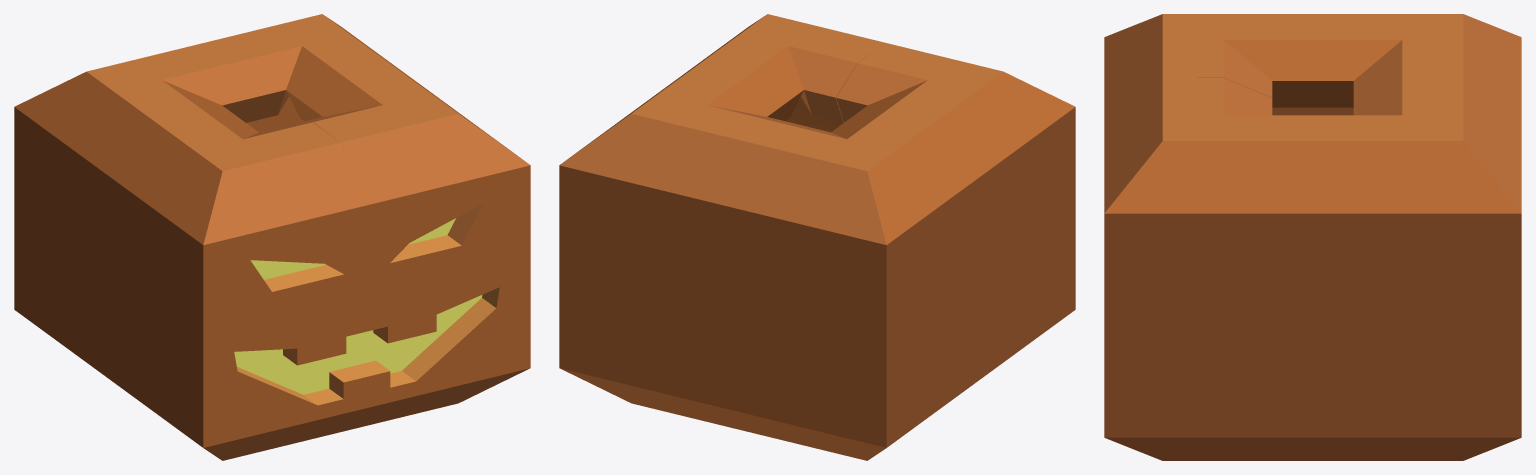
The model's file is Pumkin_Parts.glb.
3 views of the same model, side by side, from view 1: azimuth 30°, elevation 25°; view 2: azimuth 150°, elevation 25°; view 3: azimuth 270°, elevation 25° (orthographic). The views are drawn at different scales.
Parts seen in each view (by area): view 1: Pumpkin_Part_8, Pumpkin_Part_7, Pumpkin_Part_5, Pumpkin_Part_6, Pumpkin_Part_3, Pumpkin_Part_4, Pumpkin_Part_2, Pumpkin_Part_1; view 2: Pumpkin_Part_4, Pumpkin_Part_3, Pumpkin_Part_5, Pumpkin_Part_6, Pumpkin_Part_8, Pumpkin_Part_7, Pumpkin_Part_2, Pumpkin_Part_1; view 3: Pumpkin_Part_2, Pumpkin_Part_1, Pumpkin_Part_4, Pumpkin_Part_8, Pumpkin_Part_7, Pumpkin_Part_3, Pumpkin_Part_5, Pumpkin_Part_6.
Part boxes in pixels (<box>): Pumpkin_Part_8: <box>292,105,530,431</box>; Pumpkin_Part_7: <box>203,122,366,460</box>; Pumpkin_Part_5: <box>14,71,241,379</box>; Pumpkin_Part_6: <box>110,111,258,447</box>; Pumpkin_Part_3: <box>205,14,321,132</box>; Pumpkin_Part_4: <box>87,42,254,122</box>; Pumpkin_Part_2: <box>286,14,432,120</box>; Pumpkin_Part_1: <box>306,64,519,157</box>; Pumpkin_Part_4: <box>722,122,886,460</box>; Pumpkin_Part_3: <box>559,105,796,431</box>; Pumpkin_Part_5: <box>831,108,982,447</box>; Pumpkin_Part_6: <box>851,71,1075,377</box>; Pumpkin_Part_8: <box>768,14,885,132</box>; Pumpkin_Part_7: <box>836,43,1002,122</box>; Pumpkin_Part_2: <box>570,63,786,157</box>; Pumpkin_Part_1: <box>661,14,803,120</box>; Pumpkin_Part_2: <box>1310,115,1521,460</box>; Pumpkin_Part_1: <box>1104,115,1310,460</box>; Pumpkin_Part_4: <box>1353,14,1521,125</box>; Pumpkin_Part_8: <box>1104,77,1272,212</box>; Pumpkin_Part_7: <box>1104,14,1272,124</box>; Pumpkin_Part_3: <box>1353,78,1521,212</box>; Pumpkin_Part_5: <box>1309,14,1462,115</box>; Pumpkin_Part_6: <box>1163,14,1309,115</box>.
Bounding box in the file's own units: 1 × 0.8454 × 1.
Materials: 1 (1 with a texture image).
